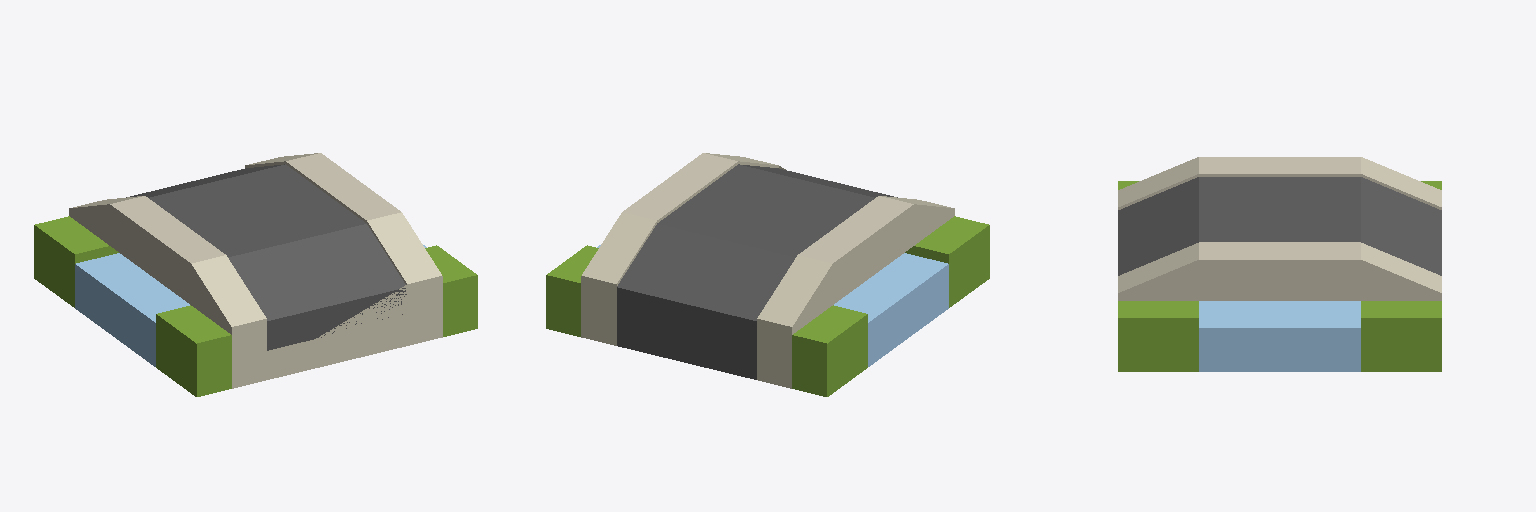
File: roadTile_187.obj
3 renders of one model, left to right at view 1: azimuth 30°, elevation 25°; view 2: azimuth 150°, elevation 25°; view 3: azimuth 270°, elevation 25°, orthographic.
Visible parts, largest first — view 1: Mesh1 Group1 Model; view 2: Mesh1 Group1 Model; view 3: Mesh1 Group1 Model.
Part boxes in pixels (x1,y1,x2,y2): Mesh1 Group1 Model: (34,153,477,396); Mesh1 Group1 Model: (546,153,989,396); Mesh1 Group1 Model: (1118,157,1441,371).
Size of the model in its own units: 3 by 0.975 by 3.